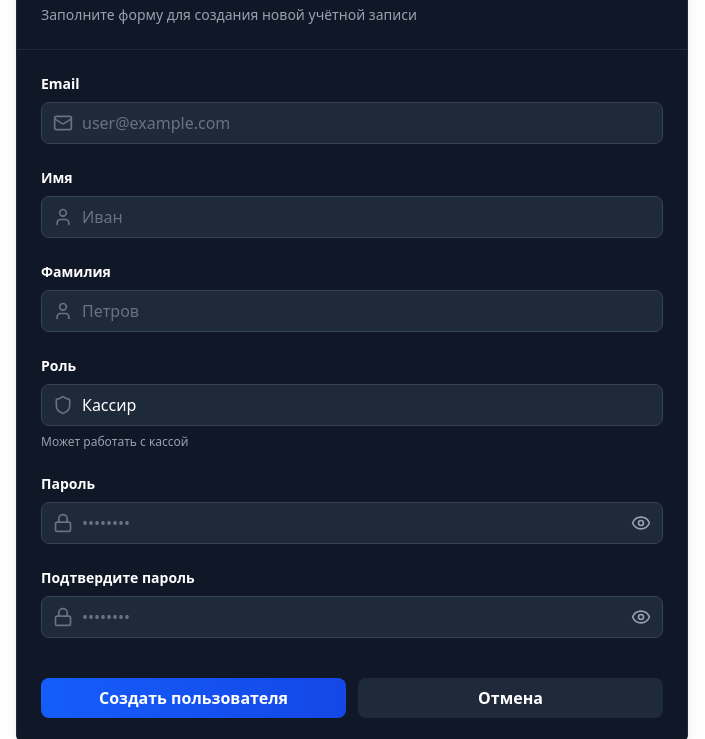
Test: UserCreateForm › Form Validation › shows email required error when email is empty
The width and height of the screenshot is (705, 739).
(page scrolled)
What coordinates should you click on to do the following:
click the button "Создать пользователя"
I would click on:
 (194, 698)
Its box is [41,678,346,718].
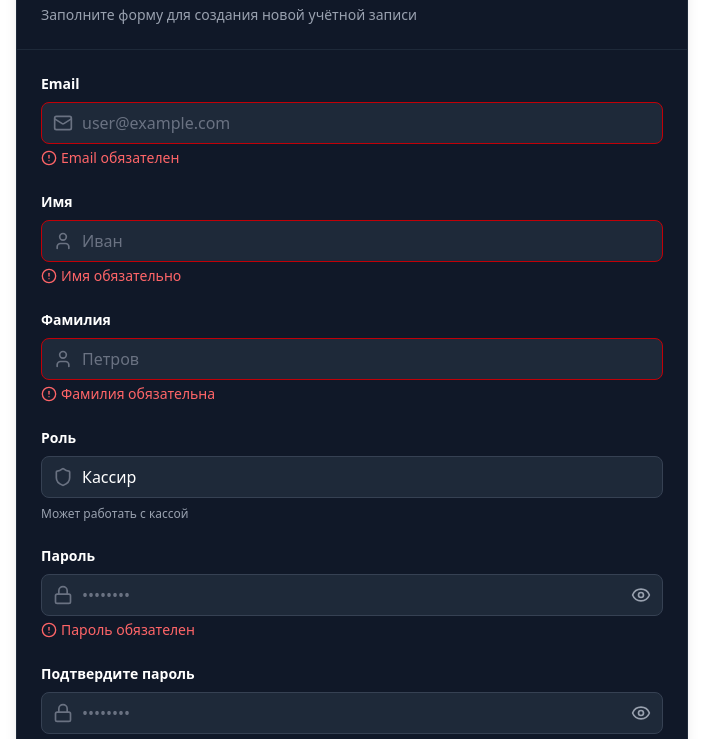
Check: the text "Email обязателен" is shown, box [41,148,179,167]
